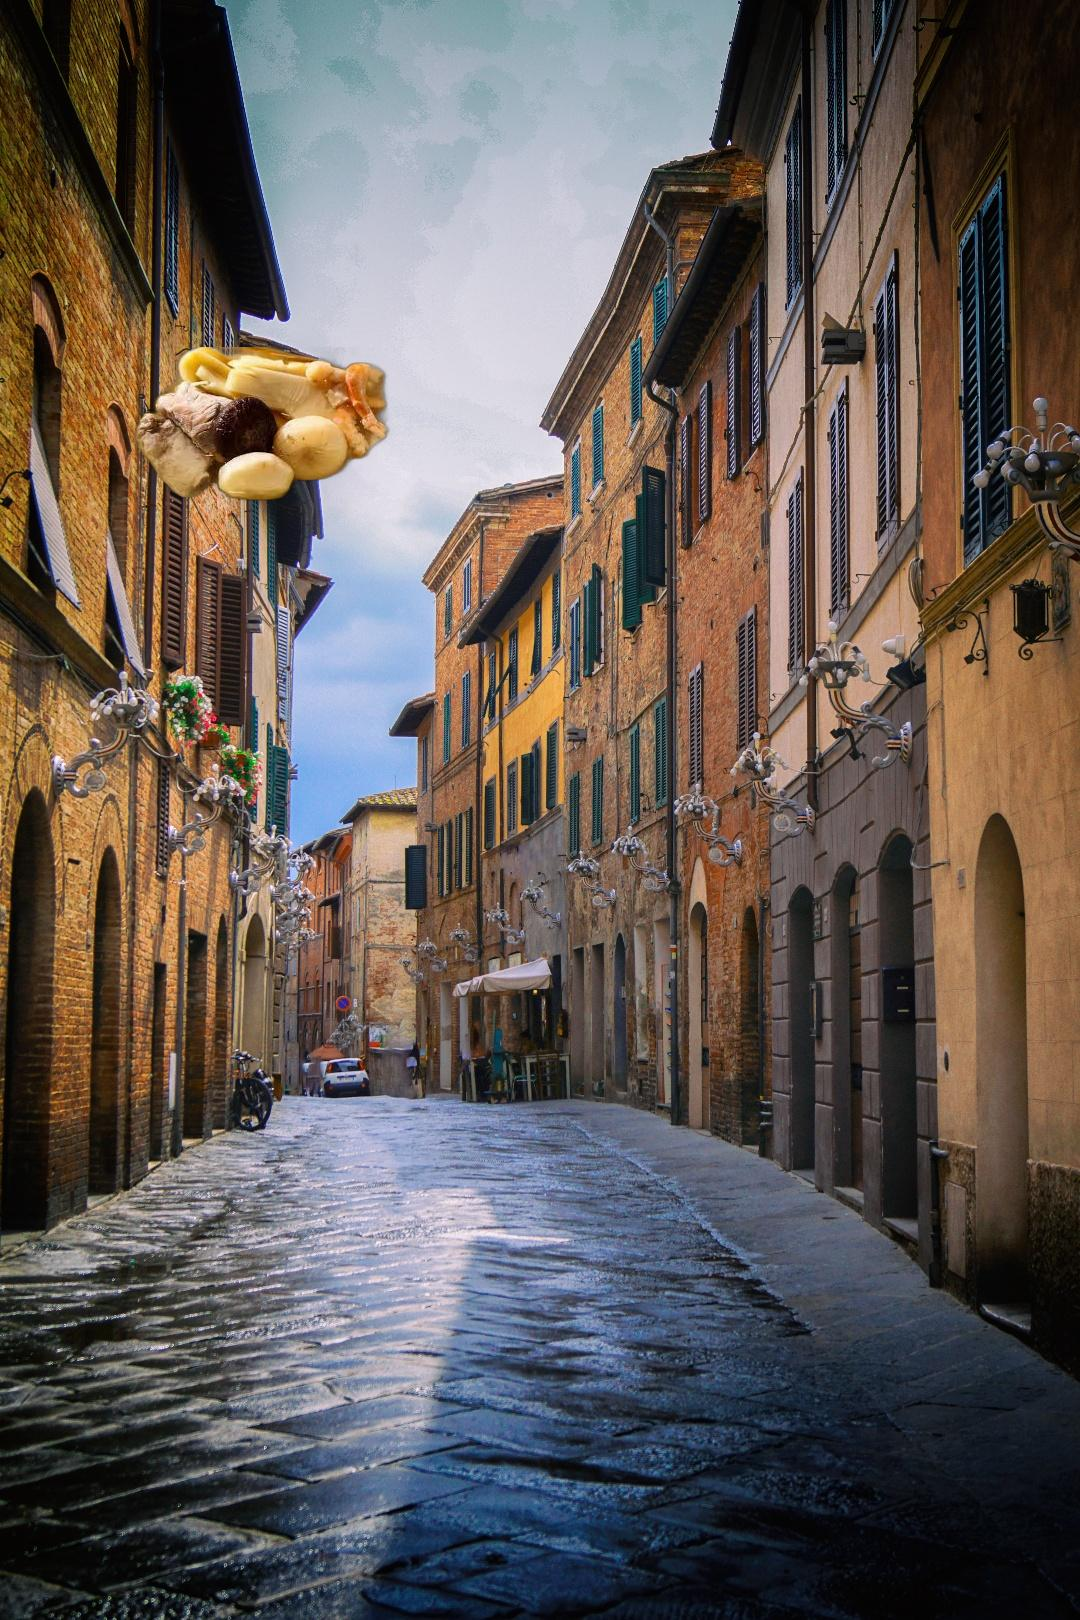biological: (118, 347, 393, 503)
